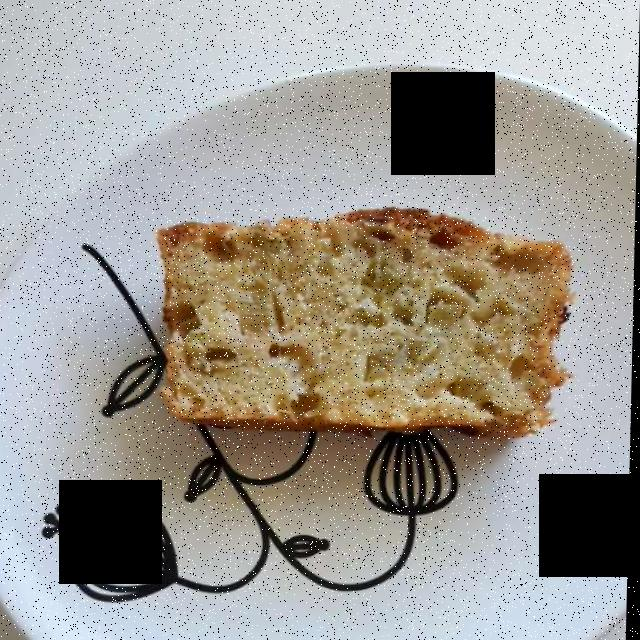cake-oblong: (168, 213, 569, 429)
